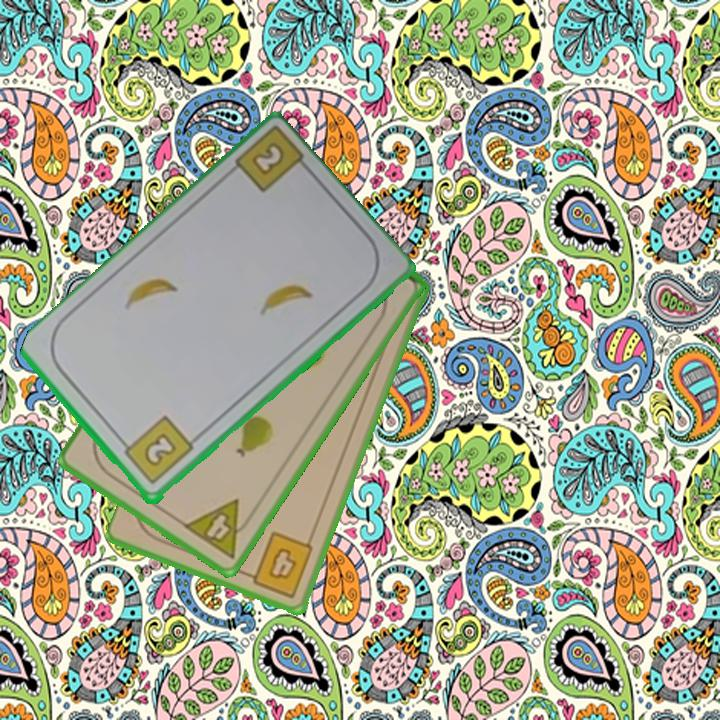2b: (117, 413, 196, 488), (247, 139, 288, 179)
4b: (240, 528, 317, 601)
4p: (179, 495, 259, 562)
